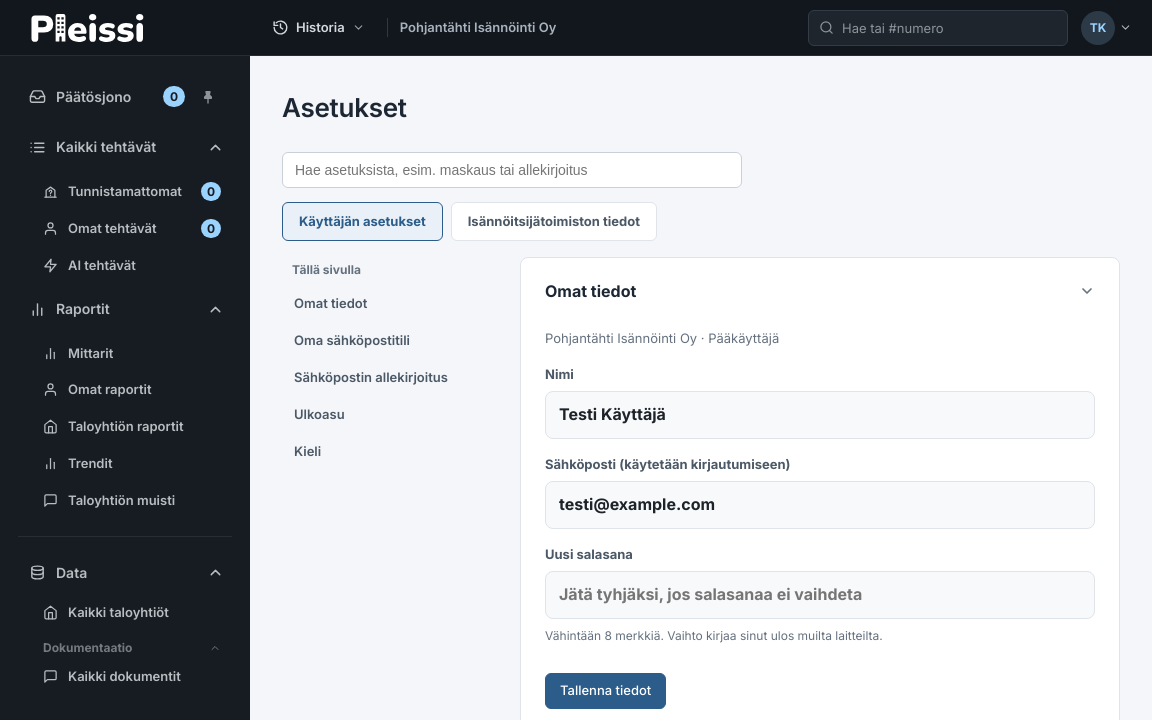
Test: sovellus › lukee vanhalla nimellä tallennetun istunnon
Click the button with aria-label "Profiili": click(1108, 28) [1078,8,1138,48]
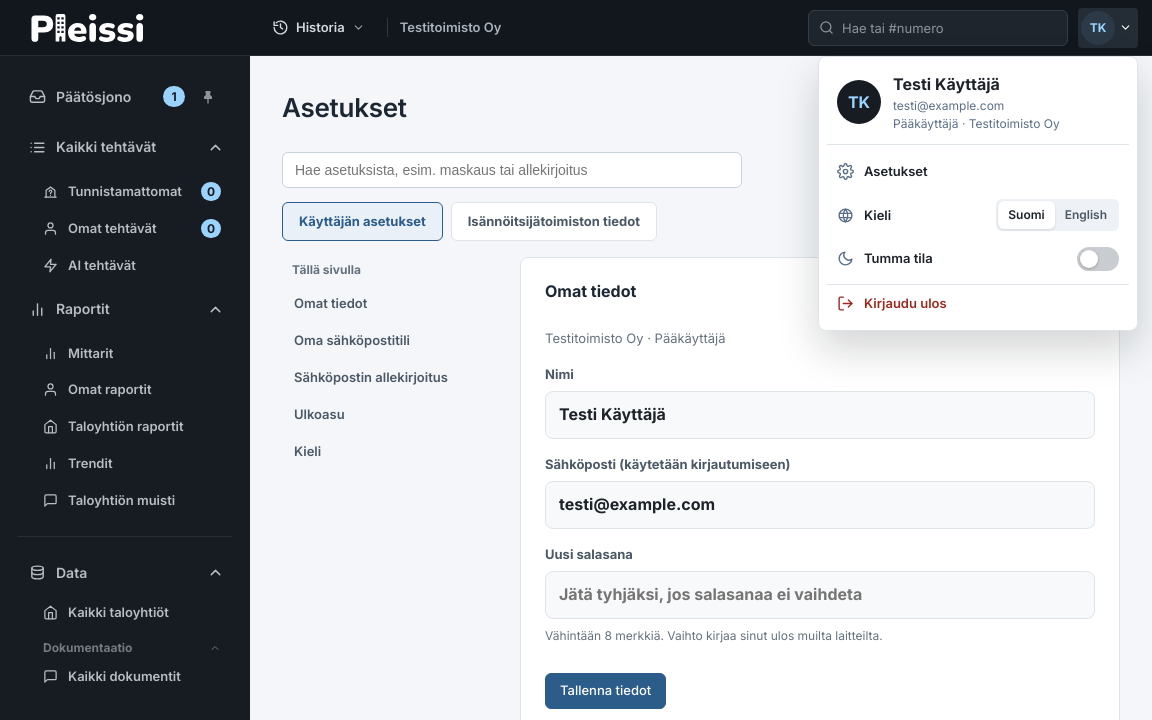
Now the menu item "Kirjaudu ulos" is shown, box [827,284,1129,322]
